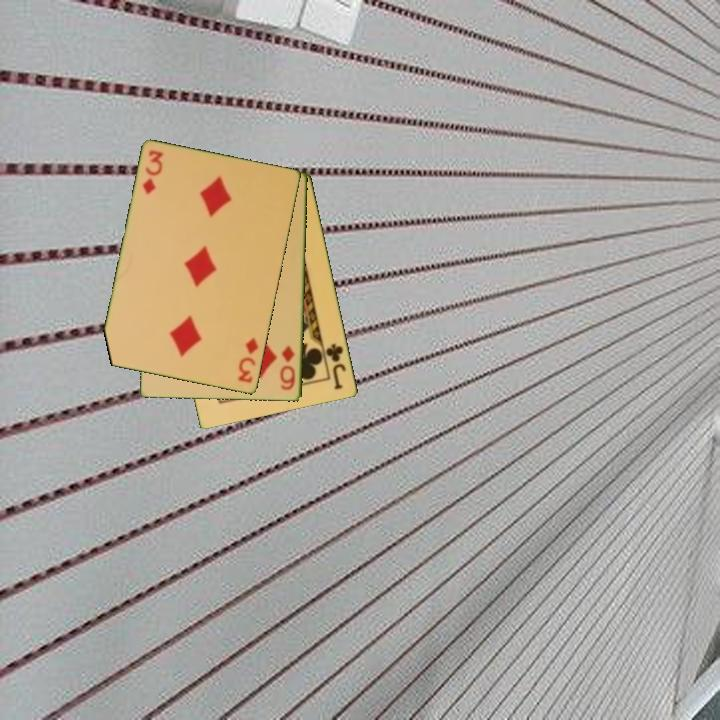3d: (139, 147, 167, 198), (235, 334, 262, 386)
6d: (277, 342, 298, 393)
Jc: (323, 340, 349, 393)
